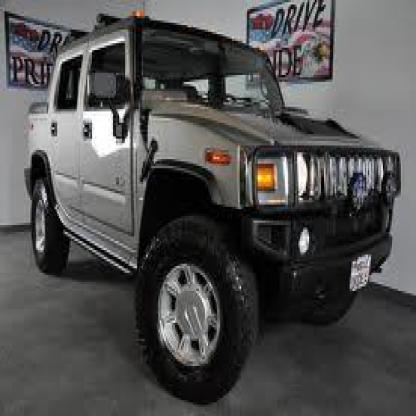Vehicle: (24, 13, 404, 404)
